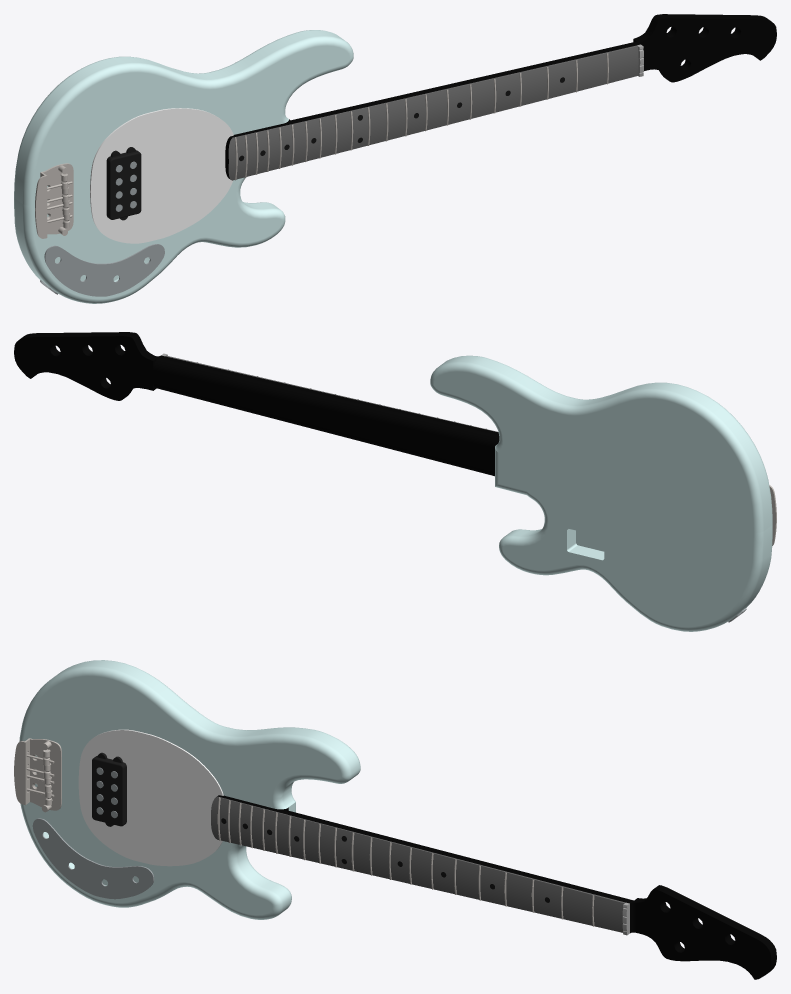
Rendered from stingray-caoba-carbon-4_4.glb.
3 renders of one model, top to bottom at view 1: azimuth 30°, elevation 25°; view 2: azimuth 150°, elevation 25°; view 3: azimuth 330°, elevation 25°, orthographic.
Visible parts, largest first — view 1: Solid6, Solid8, Solid2, Solid5, Solid3, Solid1; view 2: Solid6, Solid8; view 3: Solid6, Solid8, Solid2, Solid5, Solid3, Solid1.
Boxes of the visible parts, x1,y1,x2,y2 form: Solid6: (14,30,353,303); Solid8: (225,14,776,180); Solid2: (90,108,233,243); Solid5: (44,244,164,296); Solid3: (35,163,73,238); Solid1: (106,147,141,220); Solid6: (430,355,772,631); Solid8: (14,332,499,476); Solid6: (19,660,360,919); Solid8: (211,795,776,979); Solid2: (78,729,223,866); Solid5: (32,818,154,899); Solid3: (14,738,61,812); Solid1: (92,752,126,826).
Bounding box in the file's own units: 1.13 × 0.34 × 0.055.
